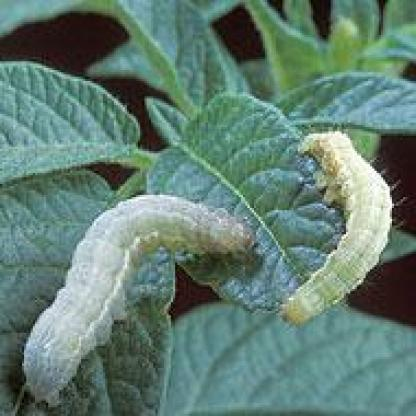armyworm: (12, 192, 258, 407), (281, 130, 395, 327)
